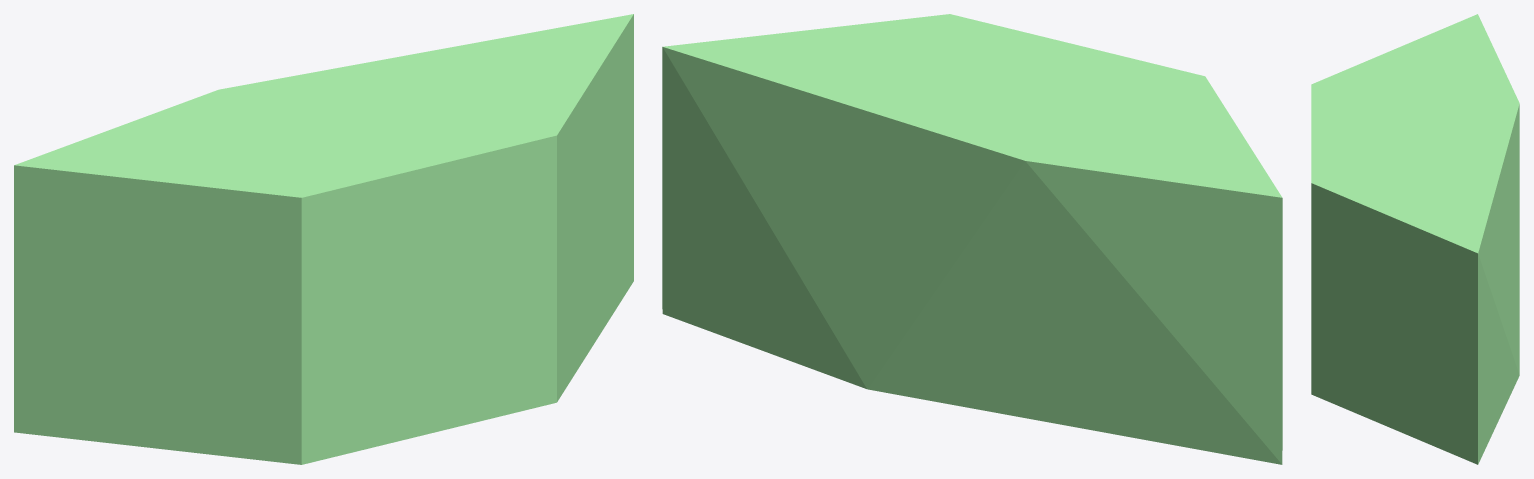
Rendered from dxxx_Lp1_respondable_PSM1_coll_2.dae.
The picture shows the model from 3 angles, left to right: view 1: azimuth 30°, elevation 25°; view 2: azimuth 150°, elevation 25°; view 3: azimuth 270°, elevation 25°; orthographic projection. The views are drawn at different scales.
Visible parts, largest first — view 1: Node_000001D818CB9BA0; view 2: Node_000001D818CB9BA0; view 3: Node_000001D818CB9BA0.
Part boxes in pixels (x1,y1,x2,y2): Node_000001D818CB9BA0: [14, 14, 633, 464]; Node_000001D818CB9BA0: [662, 14, 1282, 464]; Node_000001D818CB9BA0: [1311, 14, 1519, 464].
Size of the model in its own units: 0.017 by 0.007 by 0.00625.
